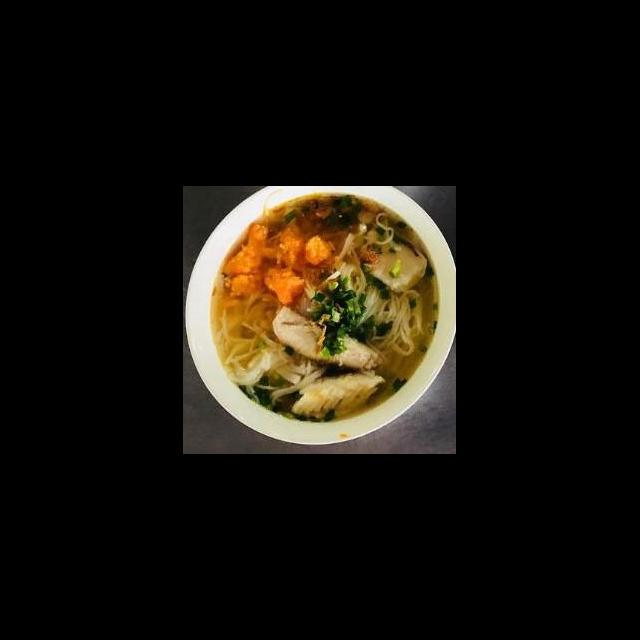bun: (342, 270, 442, 359), (212, 315, 300, 397)
bun ca: (197, 214, 452, 433)
ca: (270, 298, 386, 371), (282, 366, 390, 428), (358, 234, 429, 298)
tom: (218, 222, 272, 281), (262, 265, 308, 307), (300, 234, 338, 273)
